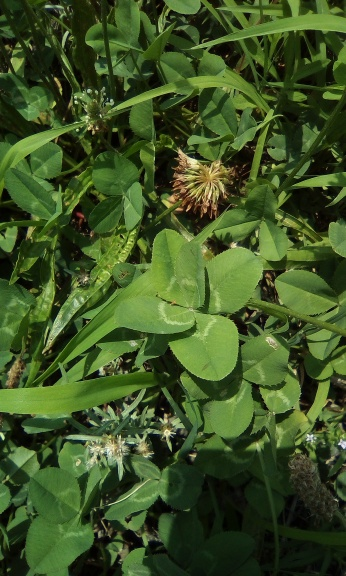4leaf: (114, 228, 264, 381)
